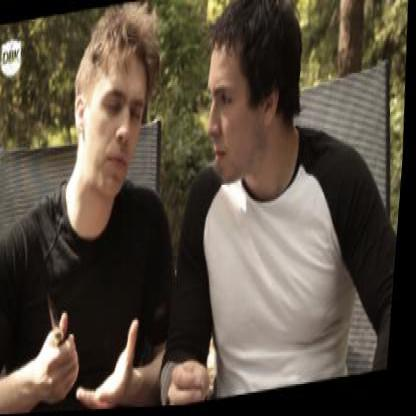knife: (38, 265, 92, 386)
